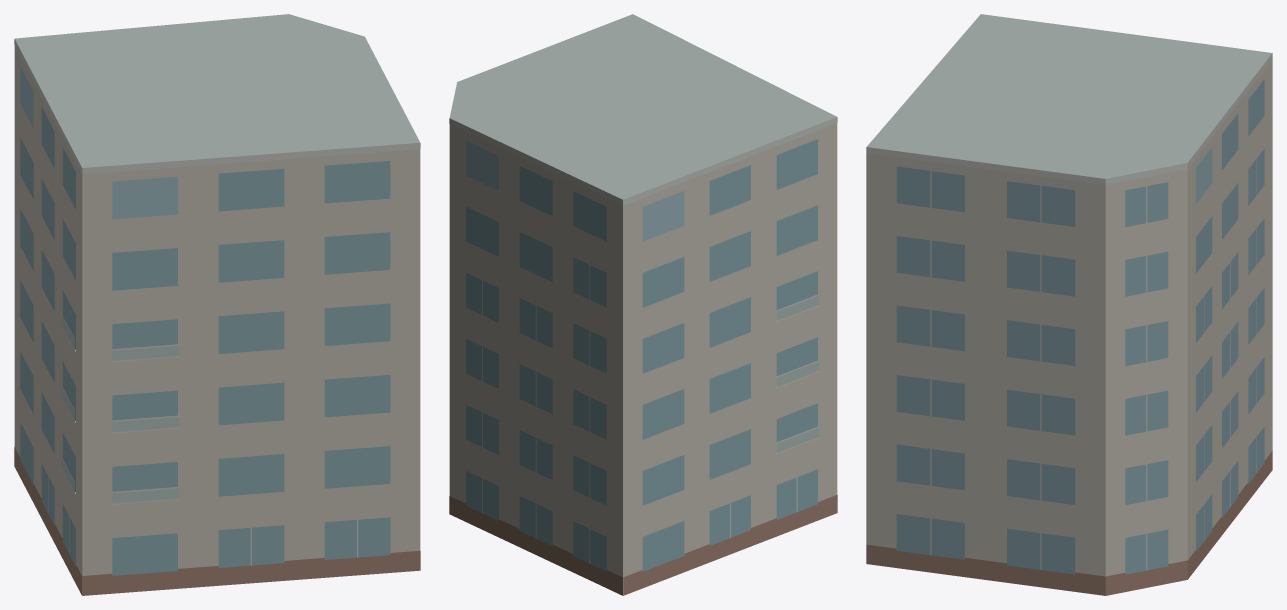
Rendered from survey-upis-32879513.glb.
3 renders of one model, left to right at view 1: azimuth 30°, elevation 25°; view 2: azimuth 150°, elevation 25°; view 3: azimuth 270°, elevation 25°, orthographic. The views are drawn at different scales.
Parts seen in each view (by area): view 1: survey-upis-32879513.tmp; view 2: survey-upis-32879513.tmp; view 3: survey-upis-32879513.tmp.
Boxes of the visible parts, x1,y1,x2,y2 form: survey-upis-32879513.tmp: (14, 14, 420, 595); survey-upis-32879513.tmp: (449, 14, 837, 595); survey-upis-32879513.tmp: (866, 14, 1272, 595).
Size of the model in its own units: 13.96 by 16.45 by 14.53.
